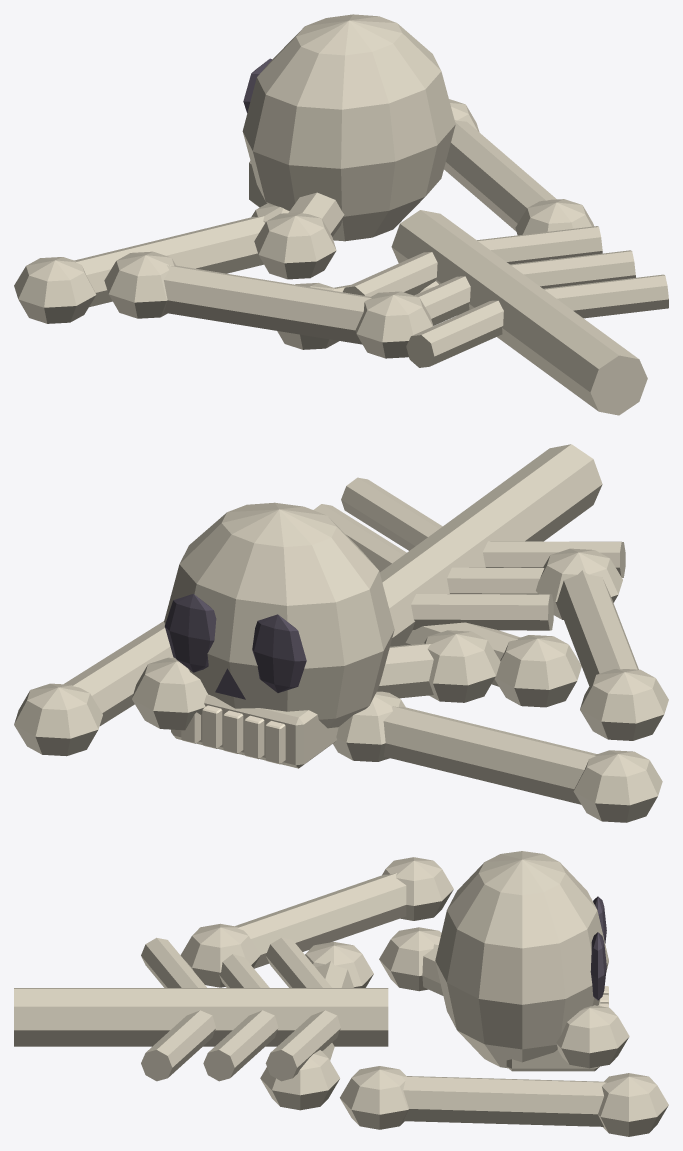
File: skeleton_remains.glb
3 renders of one model, top to bottom at view 1: azimuth 30°, elevation 25°; view 2: azimuth 150°, elevation 25°; view 3: azimuth 270°, elevation 25°, orthographic. The views are drawn at different scales.
Size of the model in its own units: 0.6395 by 0.255 by 0.7347.
